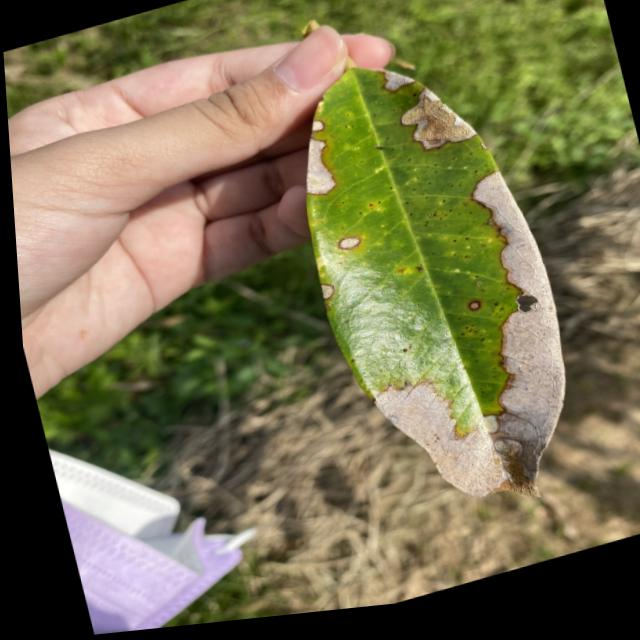Leaf Blight: (317, 293, 640, 587), (438, 147, 560, 337), (263, 107, 367, 215), (388, 79, 474, 165), (326, 231, 369, 259)
